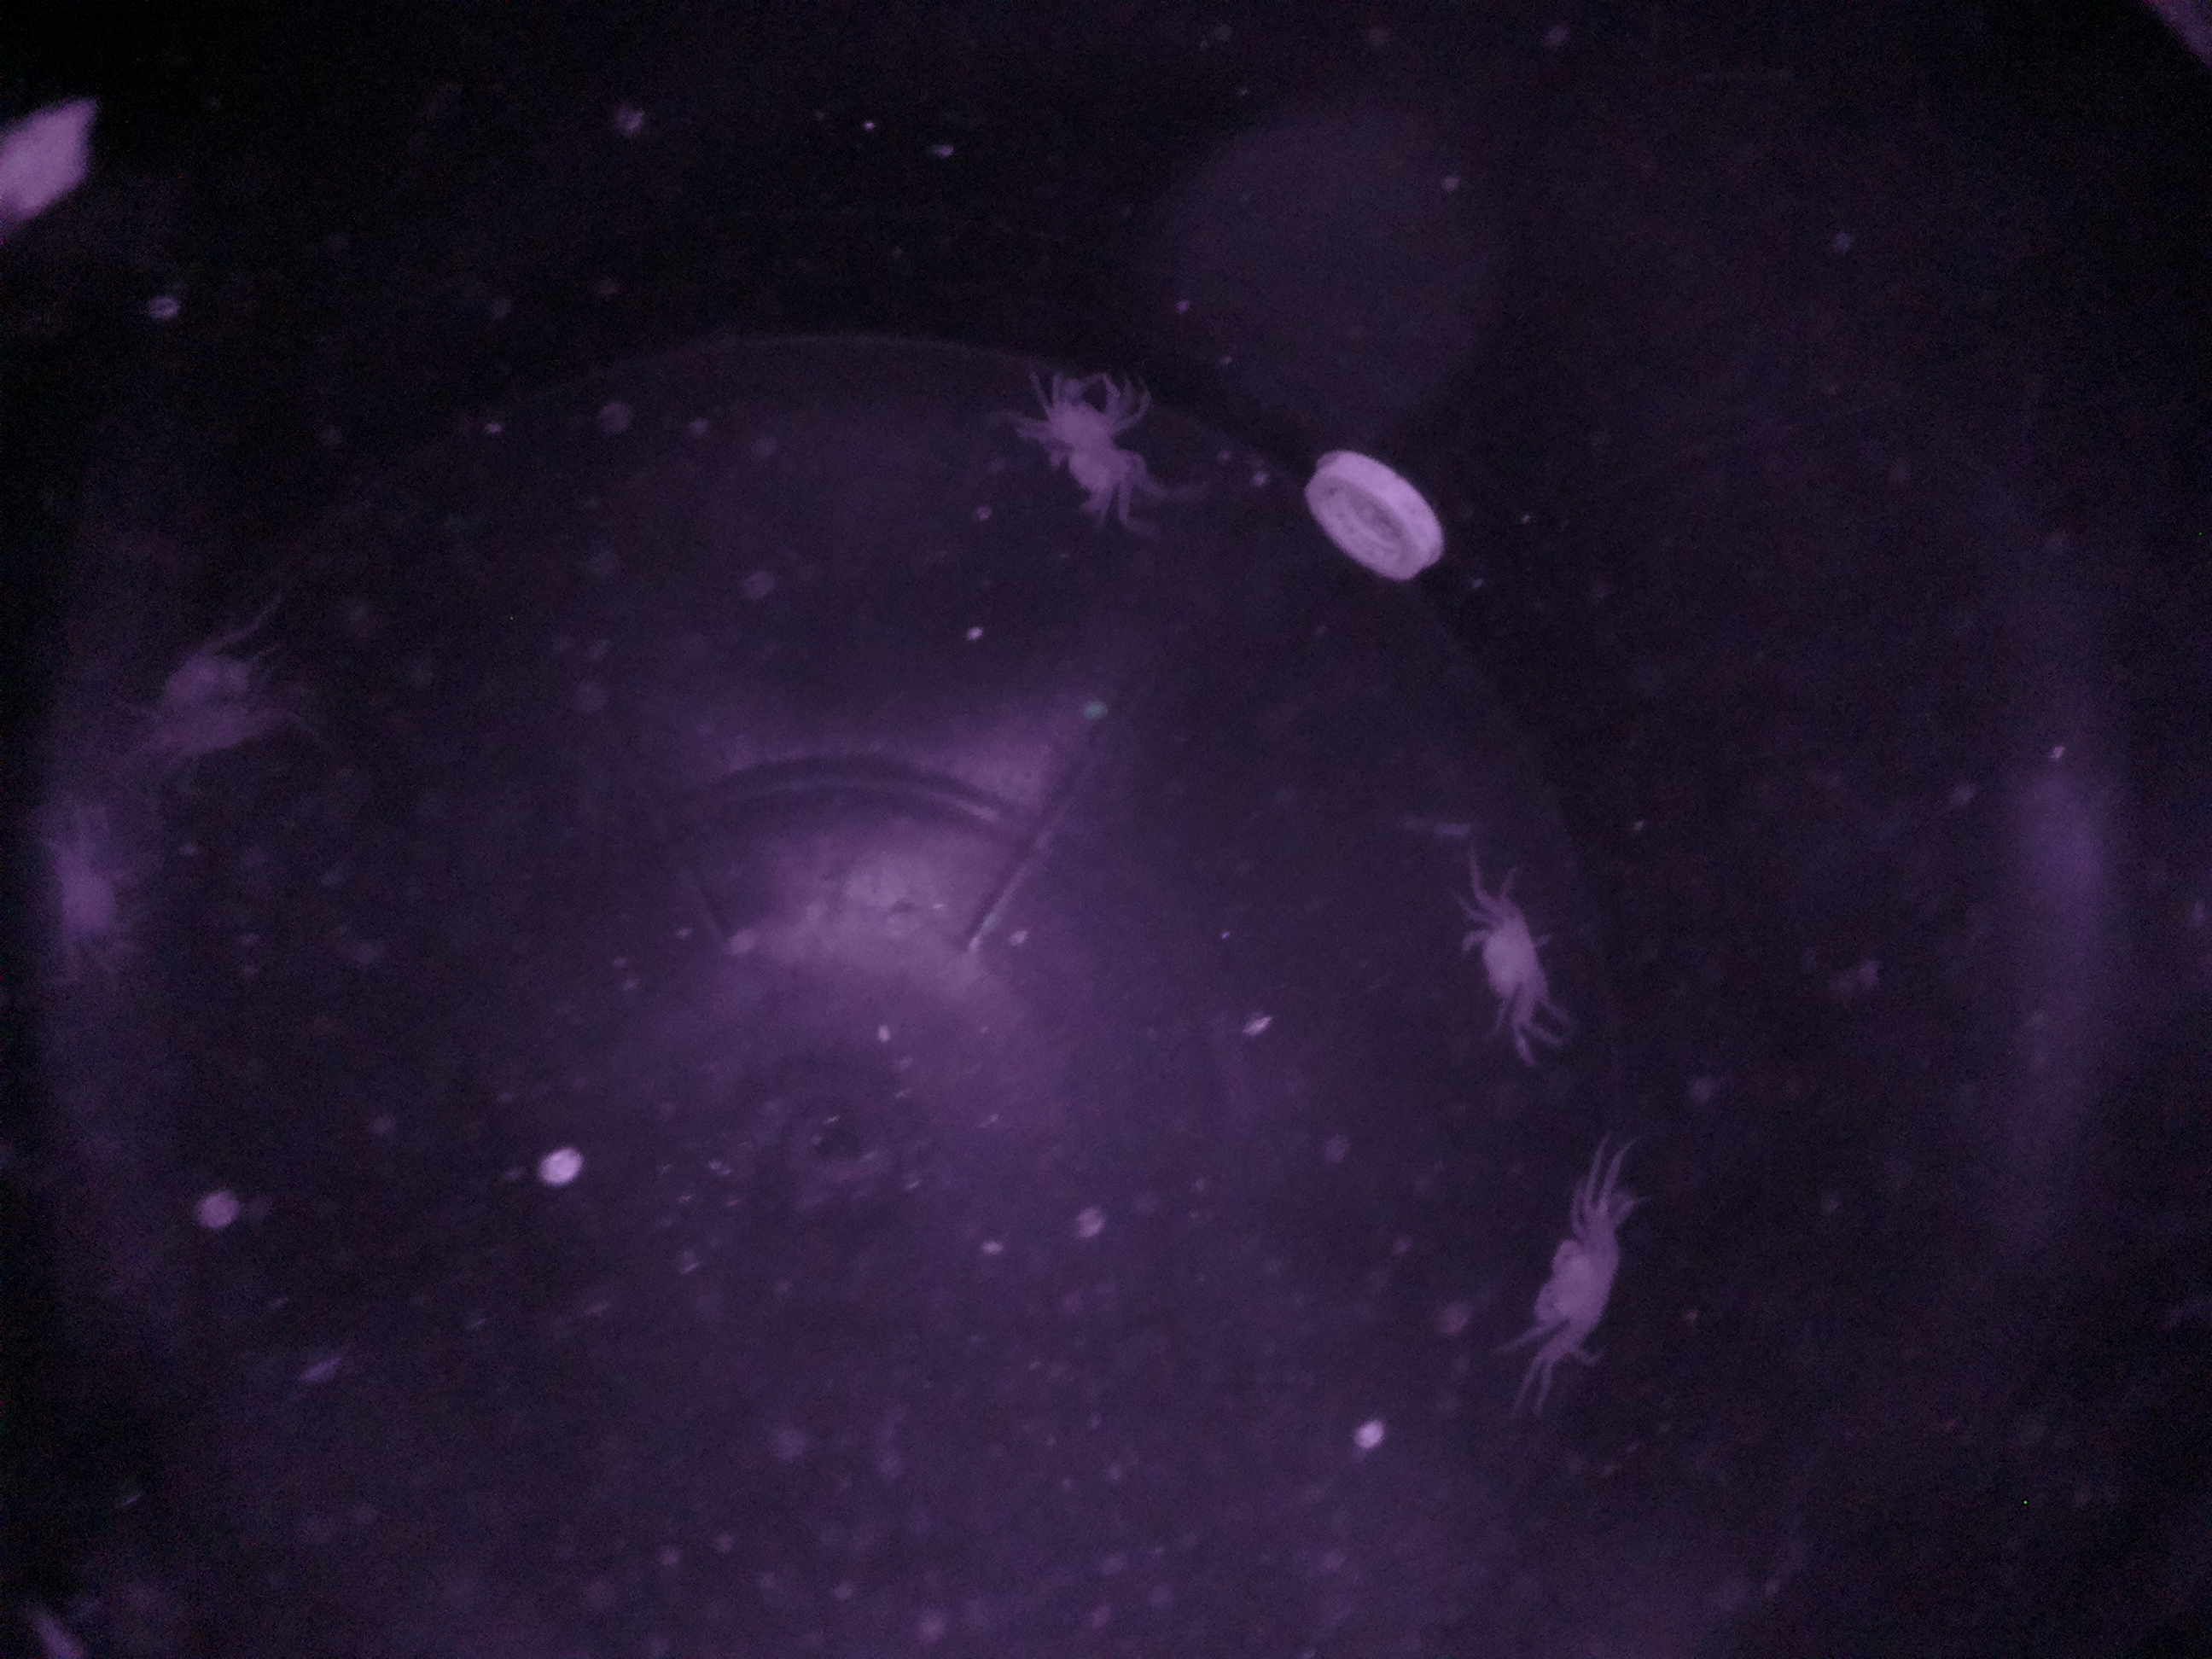Crab: (1501, 1202, 1634, 1370), (1442, 897, 1571, 1032)
